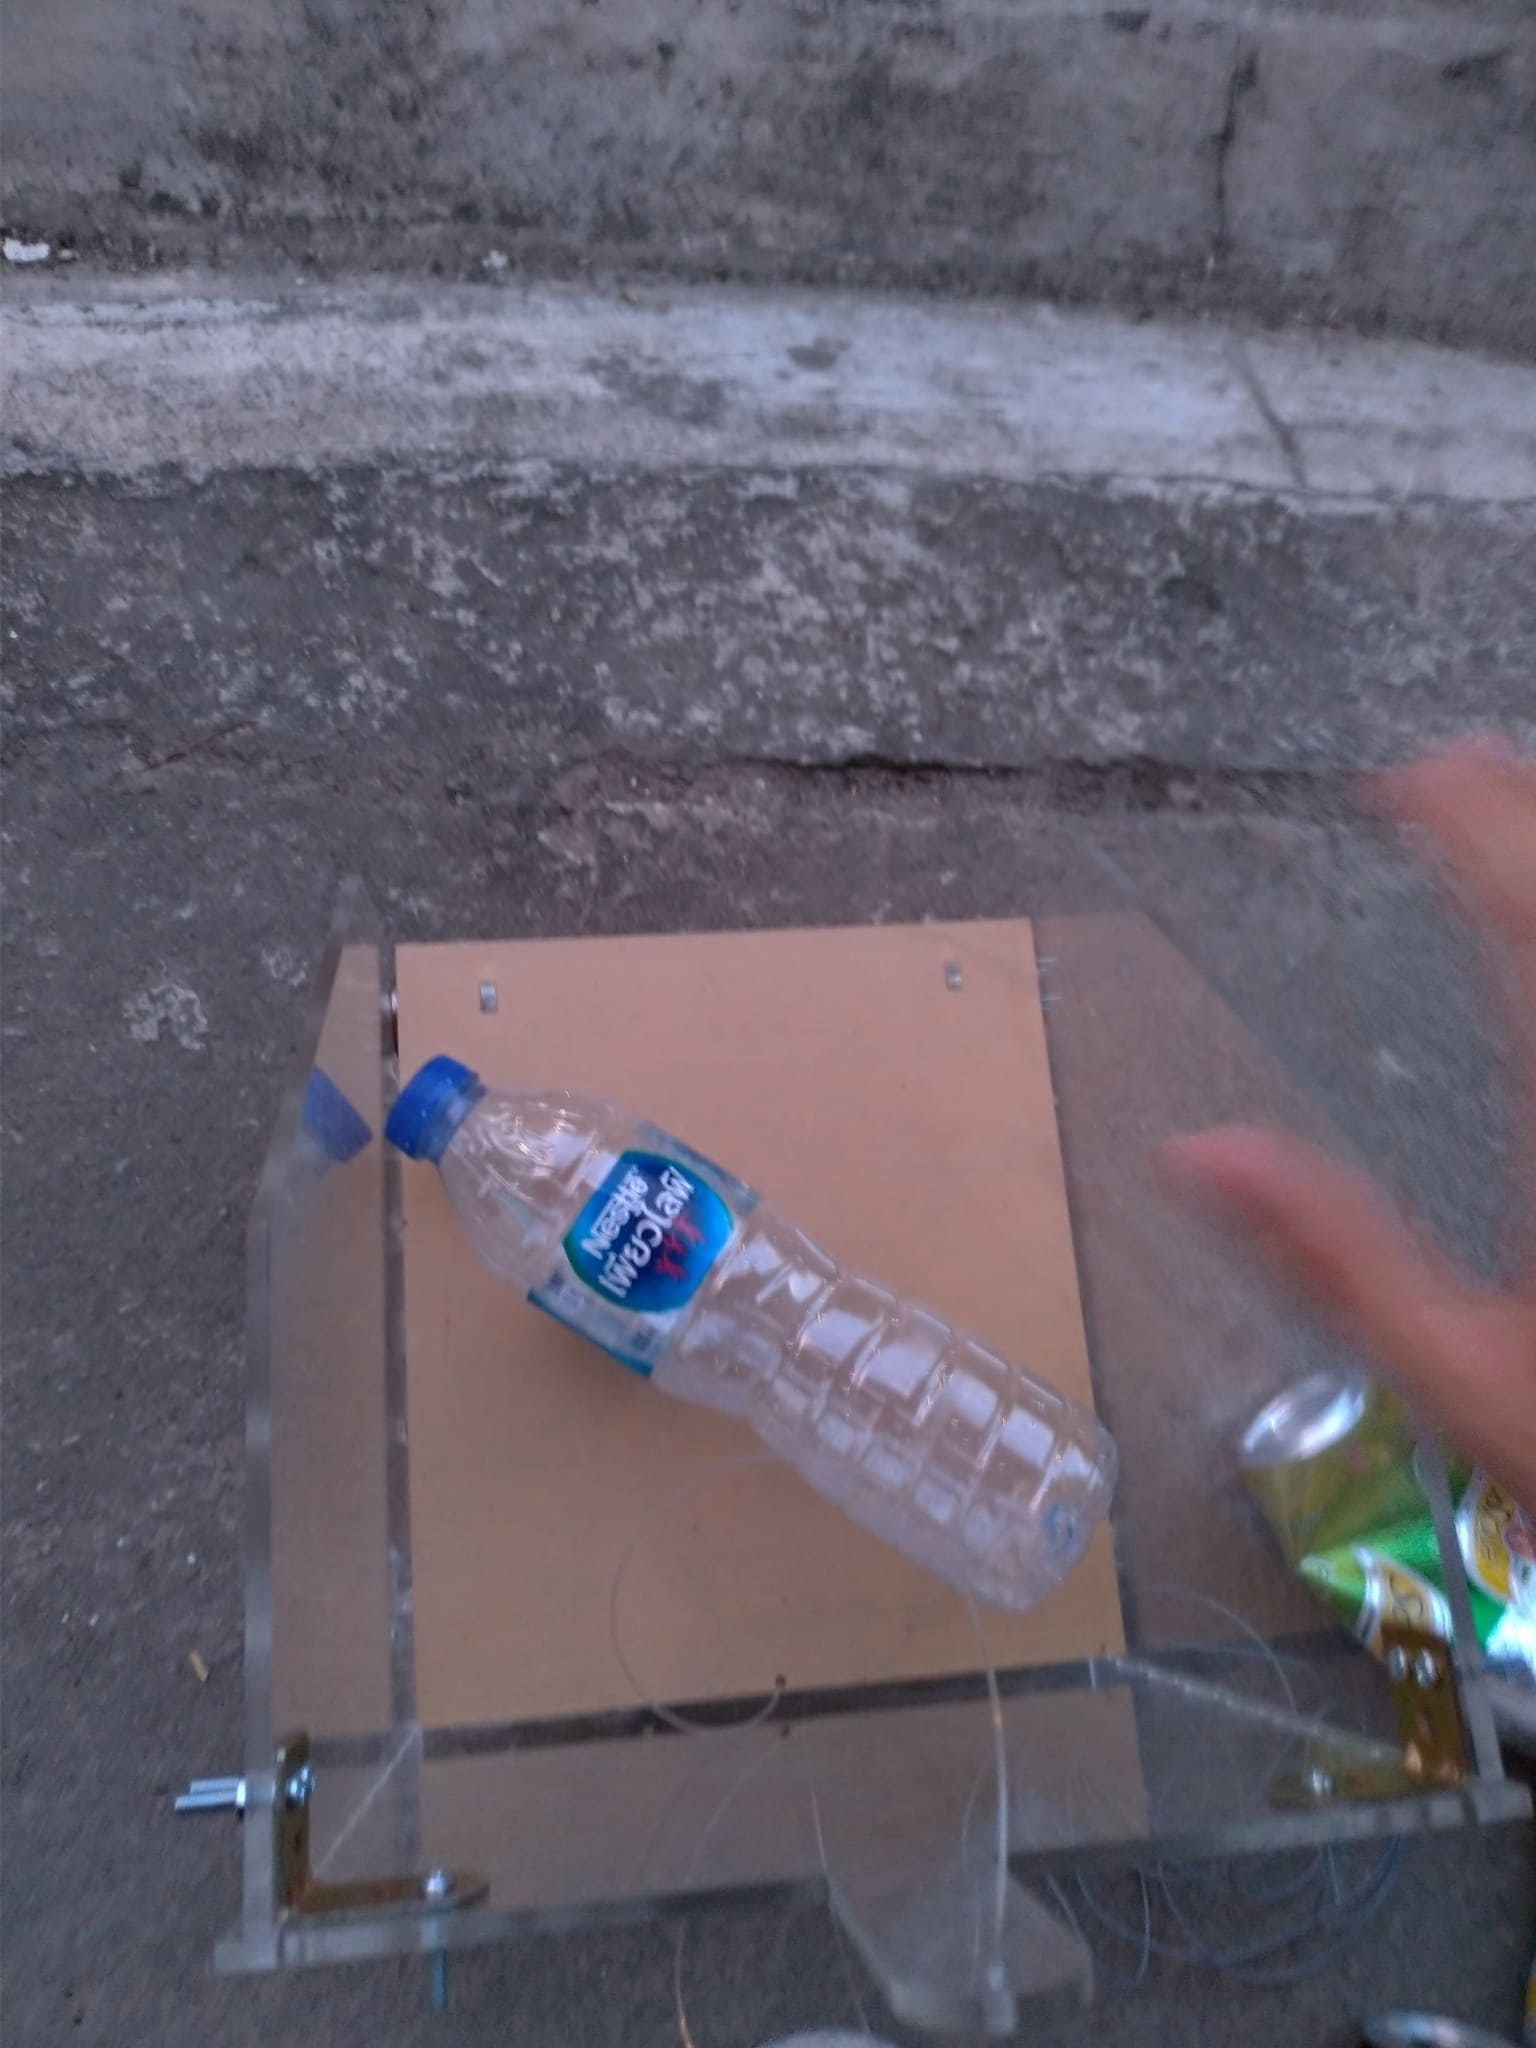AlCan: (1238, 1361, 1536, 1719)
PlasticBottle: (389, 1064, 1131, 1613)
